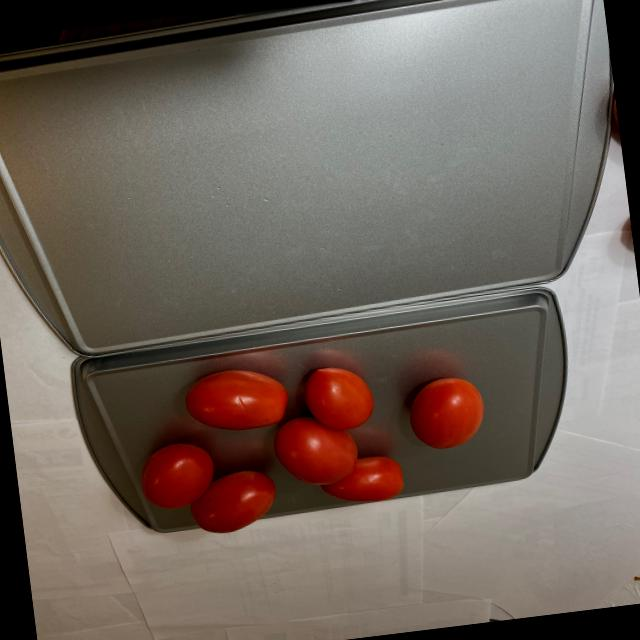tomato: (122, 332, 506, 542)
